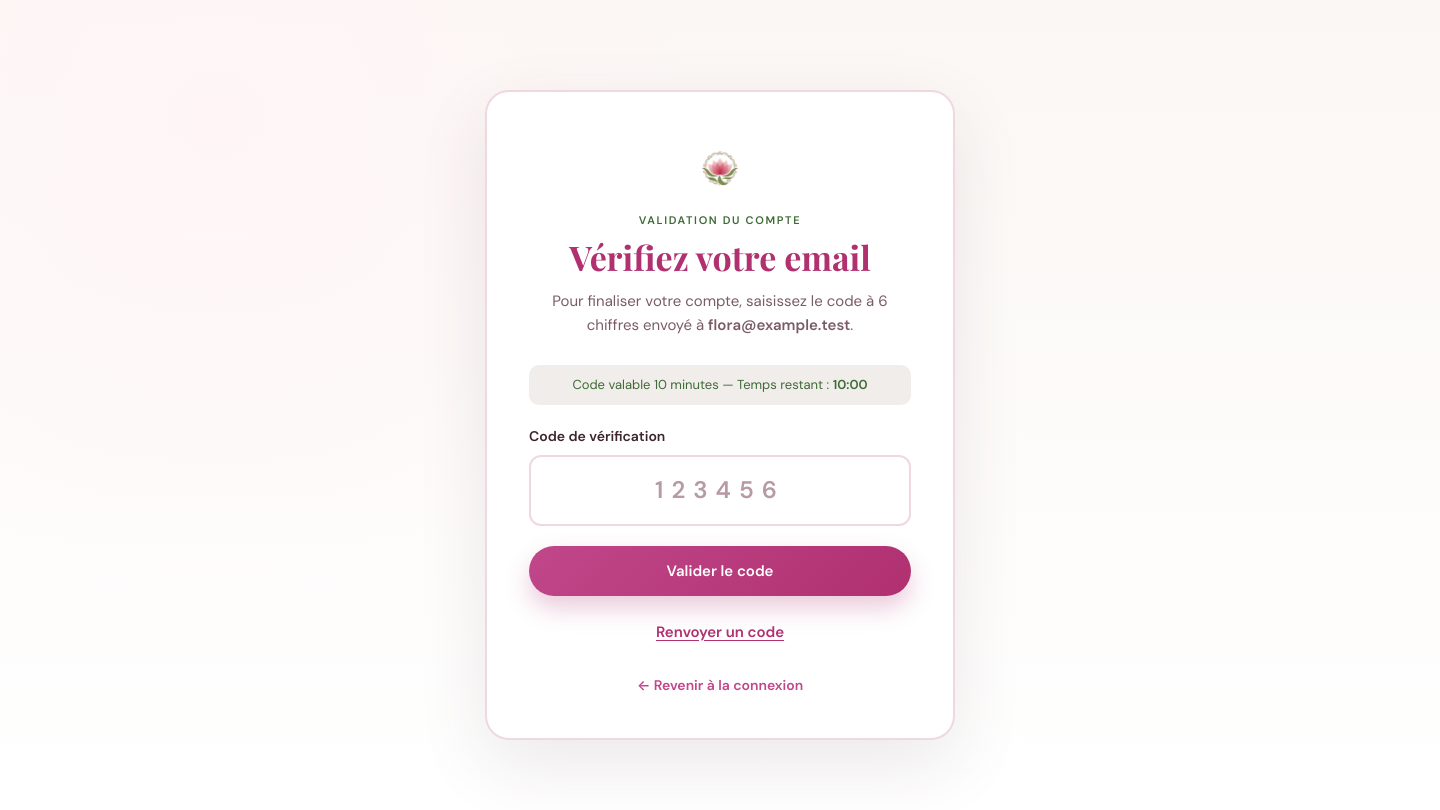
Test: Flora et récupération de compte › filtre le code email et transmet les six chiffres
Type "abc123456" into the field with placeholder "123456" at (720, 490), box [529, 455, 911, 526]
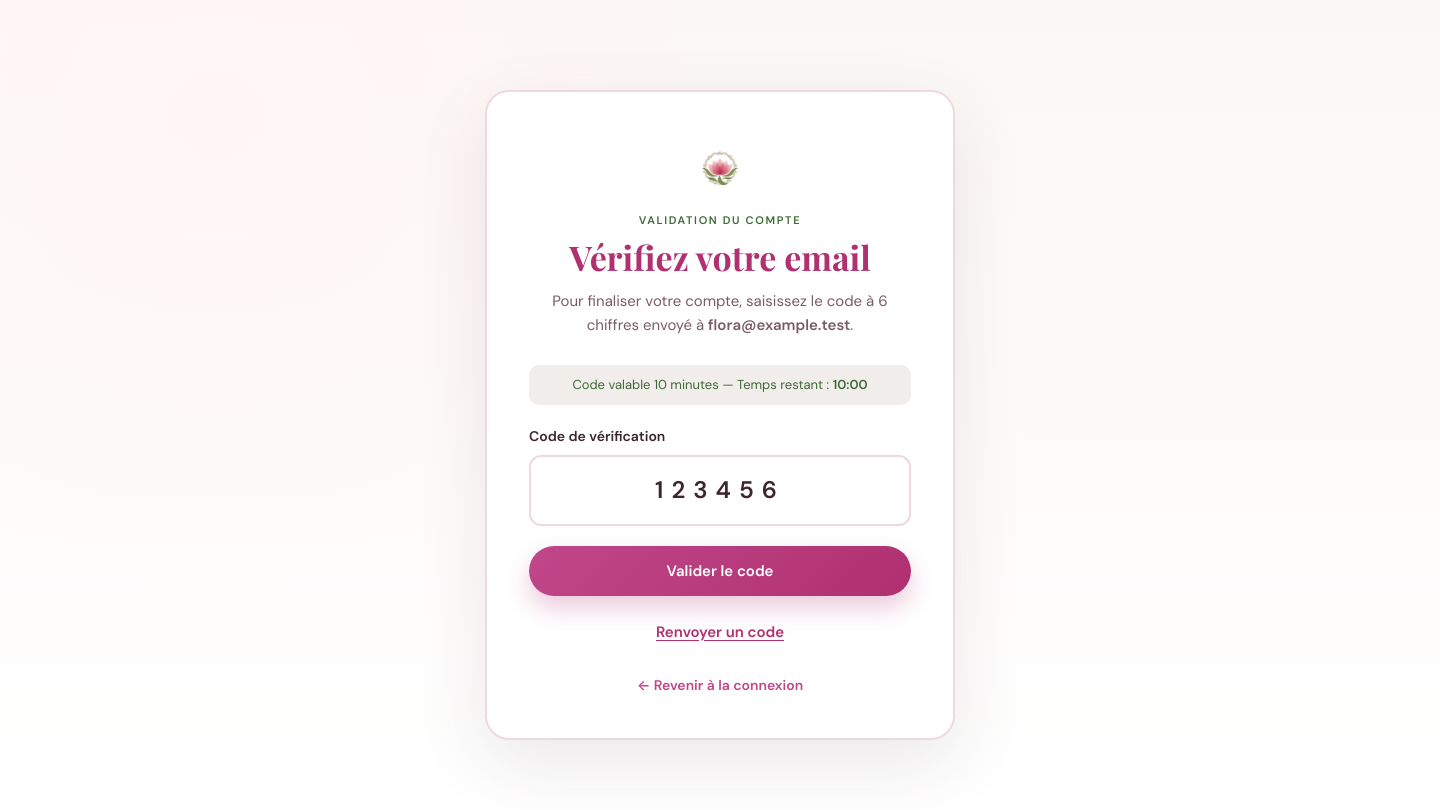
Check: the field with placeholder "123456" holds "123456", box [529, 455, 911, 526]
Click the button "Valider le code" at (720, 571), box [529, 546, 911, 596]
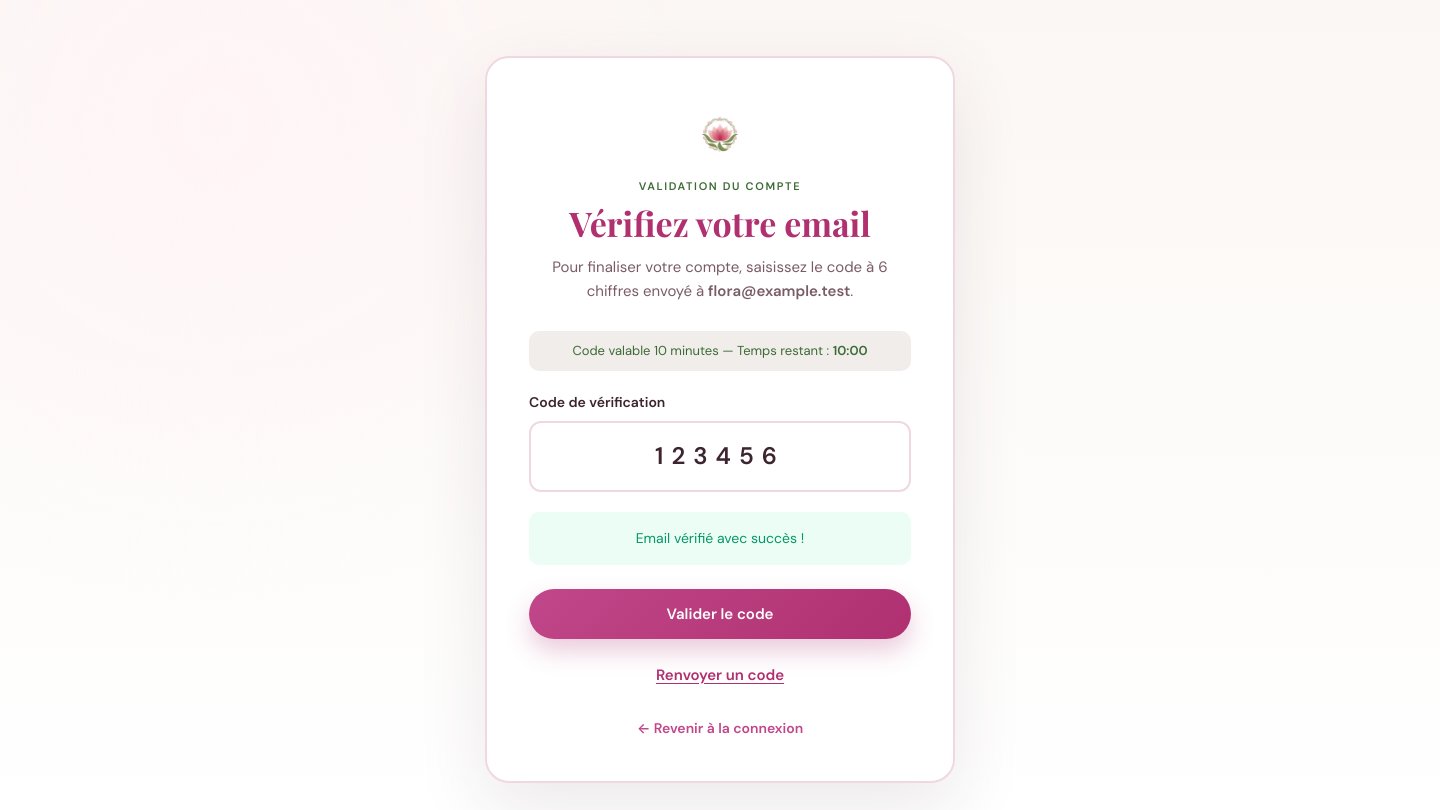
Check: the text "Email vérifié avec succès !" is shown, box [529, 512, 911, 565]
